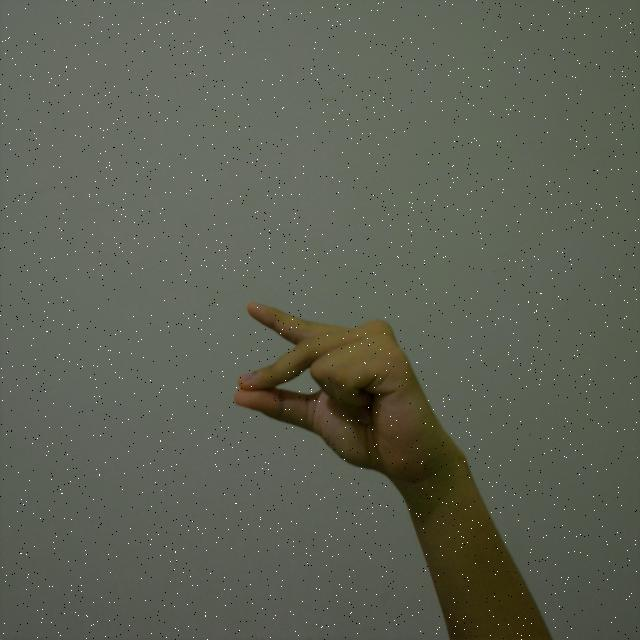R: (203, 276, 511, 507)
